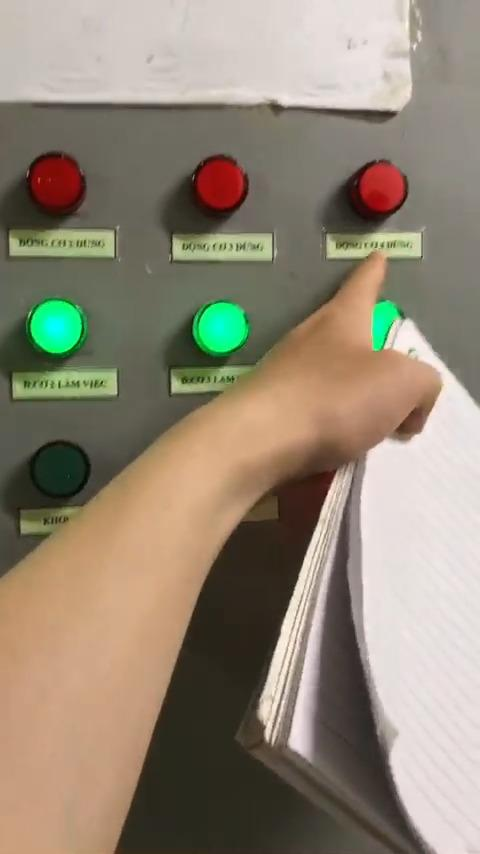led: (20, 150, 88, 219), (23, 431, 93, 496), (26, 294, 92, 356), (187, 295, 253, 355), (189, 153, 250, 211), (357, 161, 413, 216), (360, 298, 410, 347)
